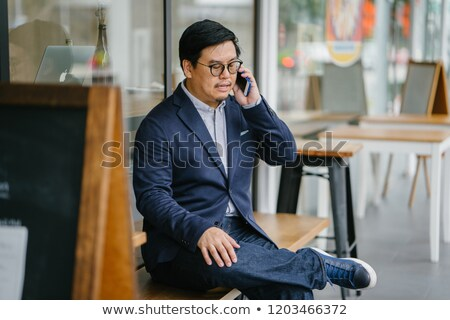phone: (236, 65, 256, 105)
talk: (207, 52, 270, 115)
